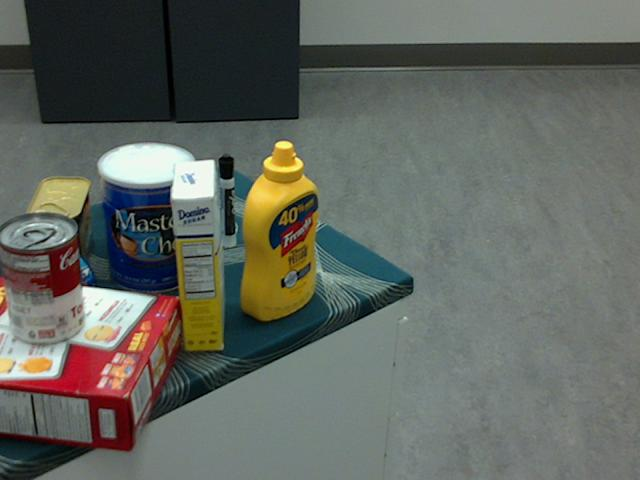cracker_box: (0, 274, 180, 451)
large_marker: (218, 153, 236, 246)
master_chef_can: (95, 142, 196, 294)
mug: (101, 144, 193, 226)
mustard_bottle: (239, 139, 319, 320)
potted_meat_can: (26, 175, 91, 280)
sugar_box: (169, 157, 225, 352)
tomato_soup_can: (0, 212, 84, 344)
tuna_fish_can: (6, 243, 95, 328)
